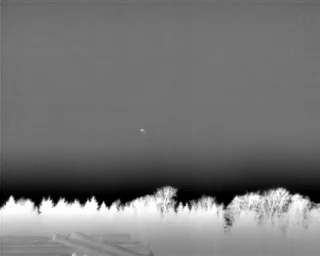BIRD: (138, 126, 146, 135)
